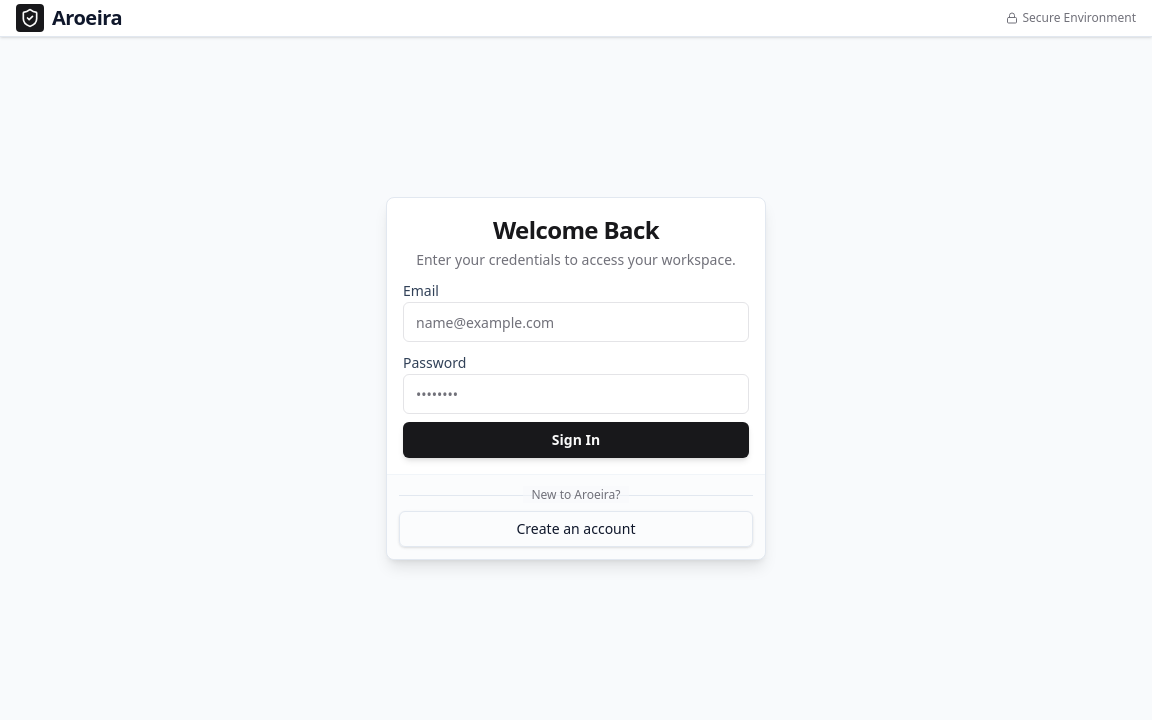
Test: Login Page › displays error message on login failure
This screenshot has width=1152, height=720.
Type "wrong@example.com" into the field labelled "Email".
click(576, 322); type("wrong@example.com")  # box [403, 302, 749, 342]
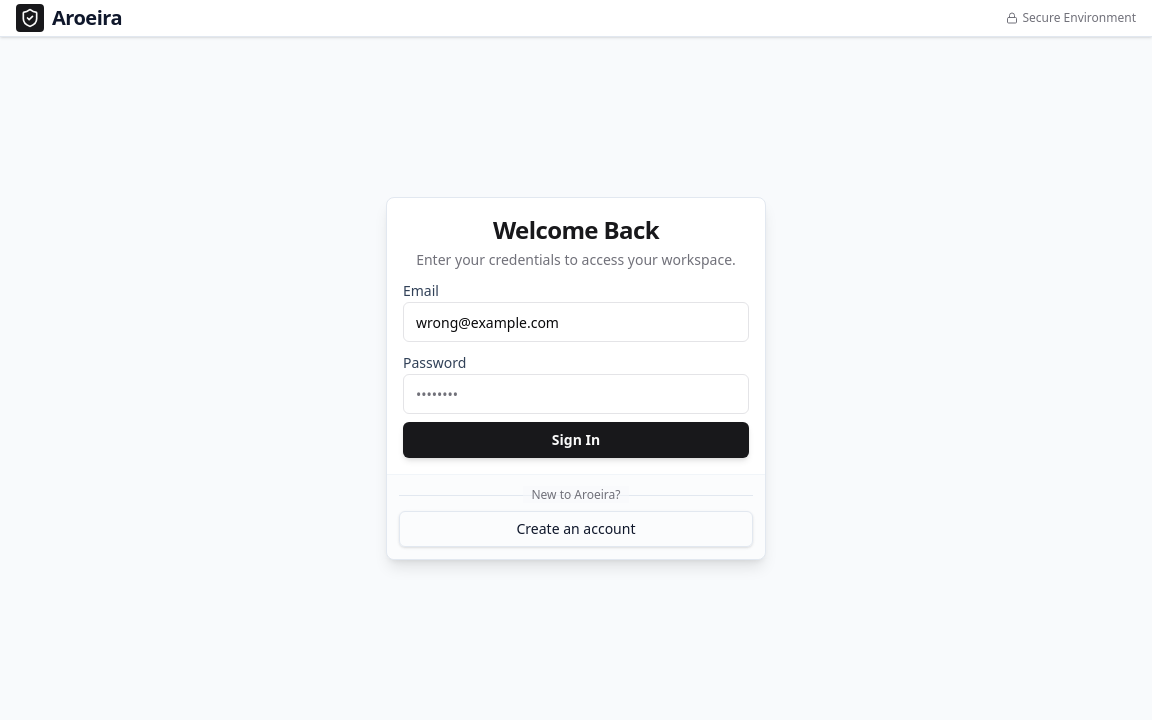
Type "wrong" into the password field labelled "Password".
click(576, 394); type("wrong")  # box [403, 374, 749, 414]
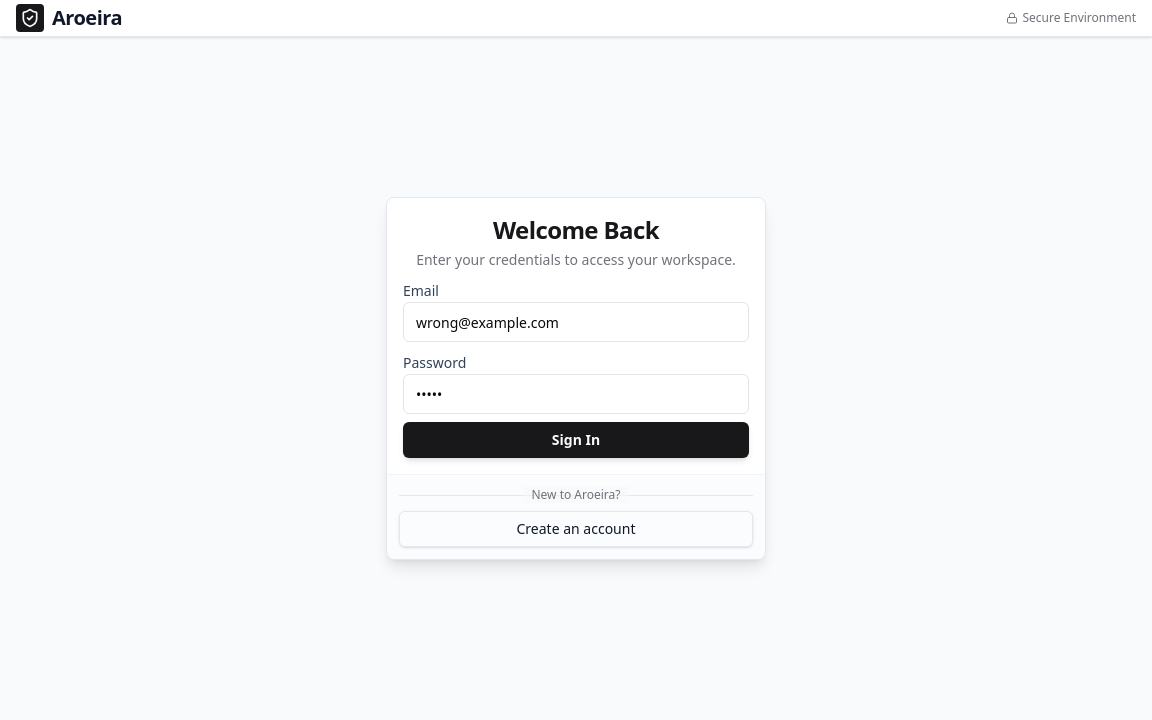
Click the button "Sign In".
click(576, 440)  # box [403, 422, 749, 458]
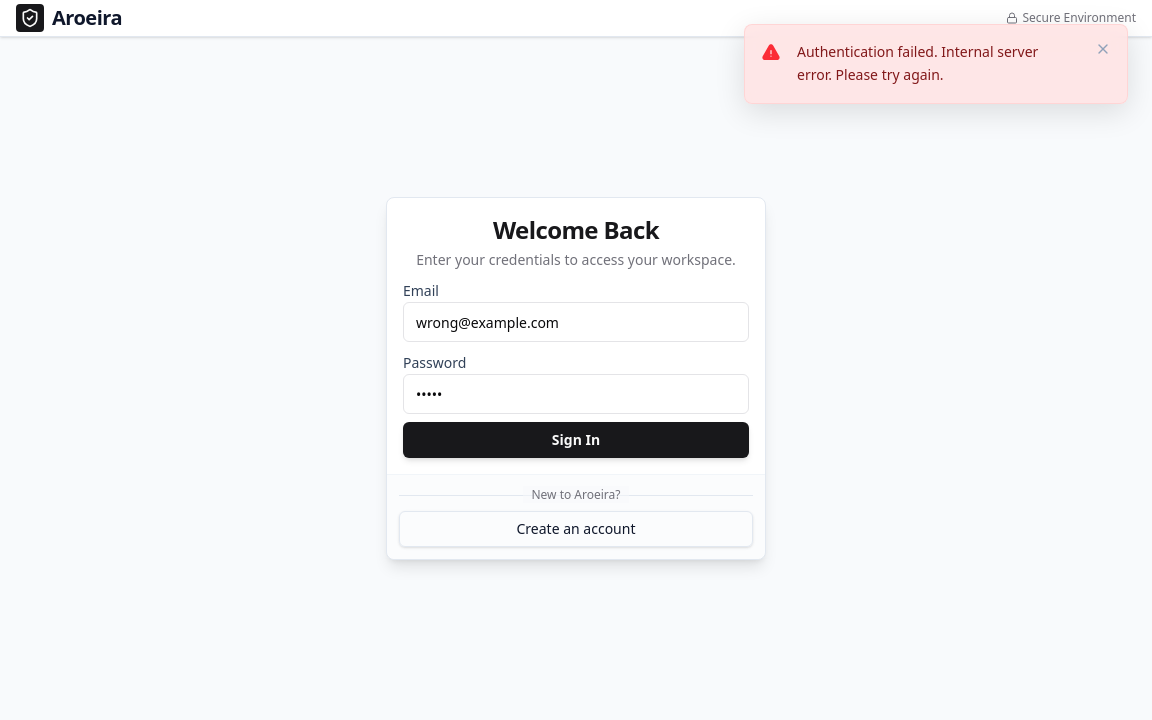
Expected: the message "Authentication failed. Internal server error. Please try again." is shown, [744, 24, 1128, 104]
Expected: the message shows "Authentication failed", [797, 42, 1038, 84]
